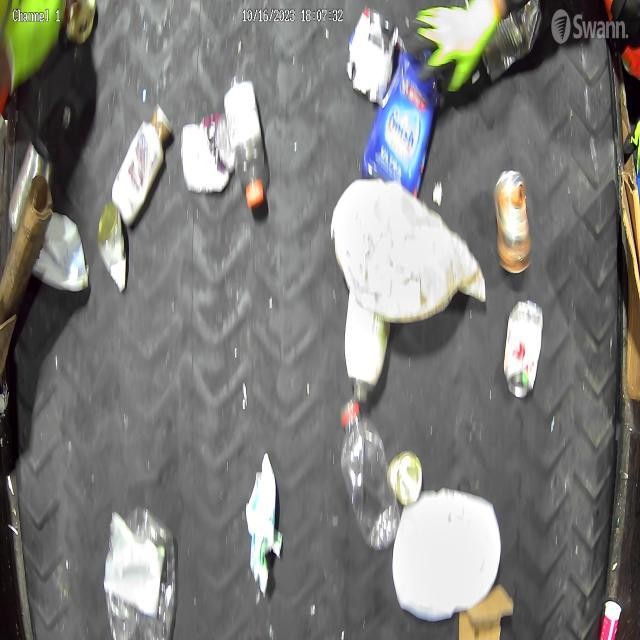can: (180, 115, 230, 198), (494, 167, 530, 267), (505, 299, 540, 396), (98, 206, 128, 294)
milk_jug: (393, 487, 502, 619)
plastic_bottle: (340, 391, 396, 545), (222, 72, 266, 209)
